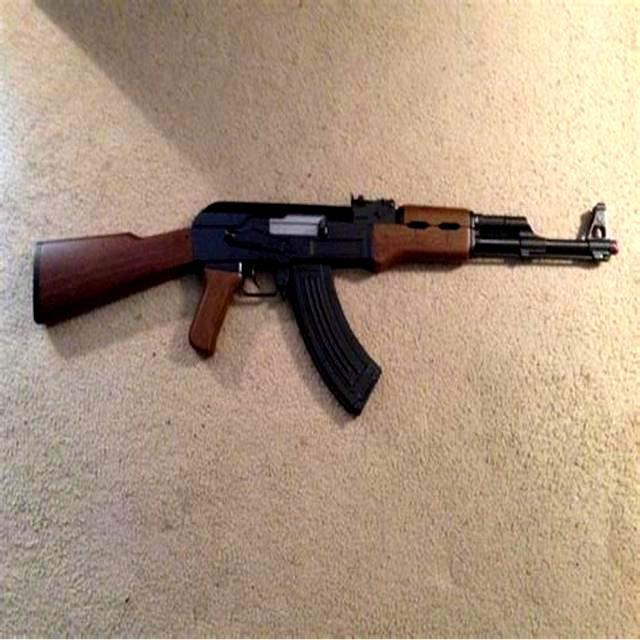ak: (31, 190, 624, 426)
